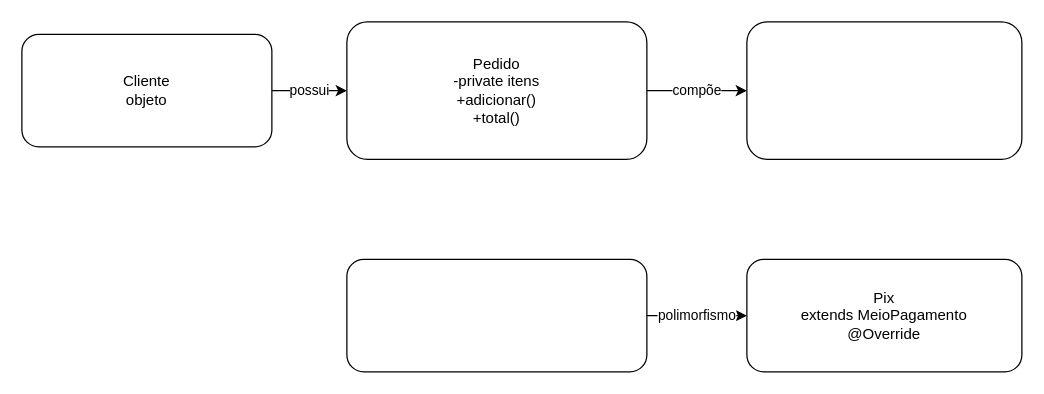
Image size: 1044x394. Some labels were removed from this diagram. Here are the shapes that lost their labels. From the top down, the centre of each, then its label:
At [884,90]: "Item -private preco +subtotal()".
At [496,315]: "MeioPagamento abstract +processar()".
